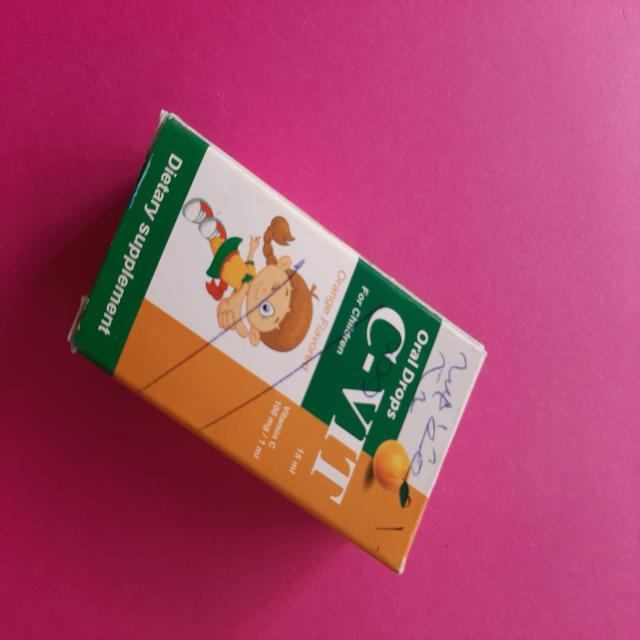C-VIT: (55, 116, 500, 563)
